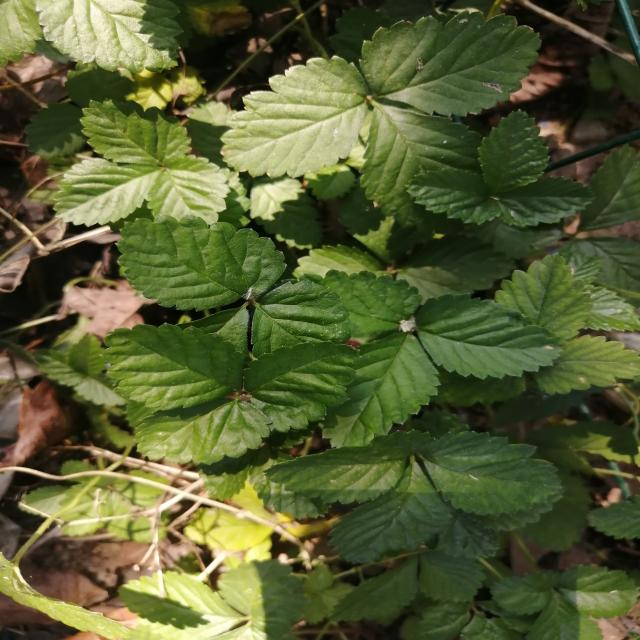Mock_strawberry: (95, 218, 507, 455)
